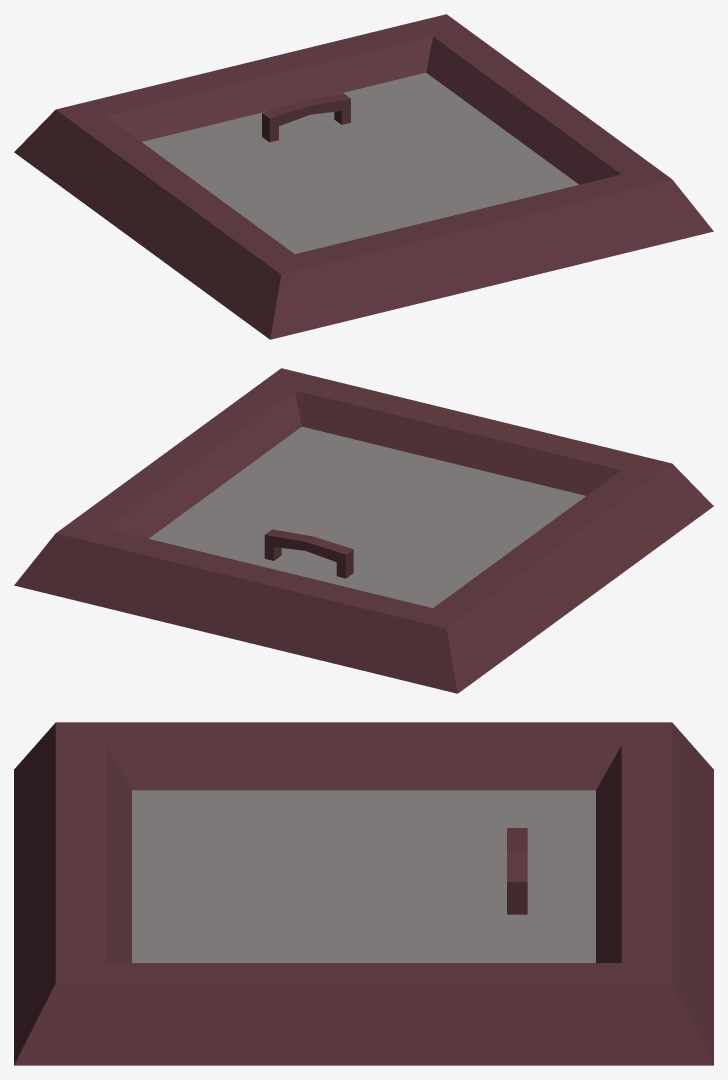
Rendered from scifi-hatch.fbx.
3 renders of one model, top to bottom at view 1: azimuth 30°, elevation 25°; view 2: azimuth 150°, elevation 25°; view 3: azimuth 270°, elevation 25°, orthographic. The views are drawn at different scales.
Parts seen in each view (by area): view 1: scifi-hatch; view 2: scifi-hatch; view 3: scifi-hatch.
Part boxes in pixels (left/top/right/bottom): scifi-hatch: left=14, top=14, right=713, bottom=339; scifi-hatch: left=14, top=368, right=713, bottom=693; scifi-hatch: left=14, top=722, right=713, bottom=1065.
Bounding box in the file's own units: 1.28 × 0.1329 × 1.28.
